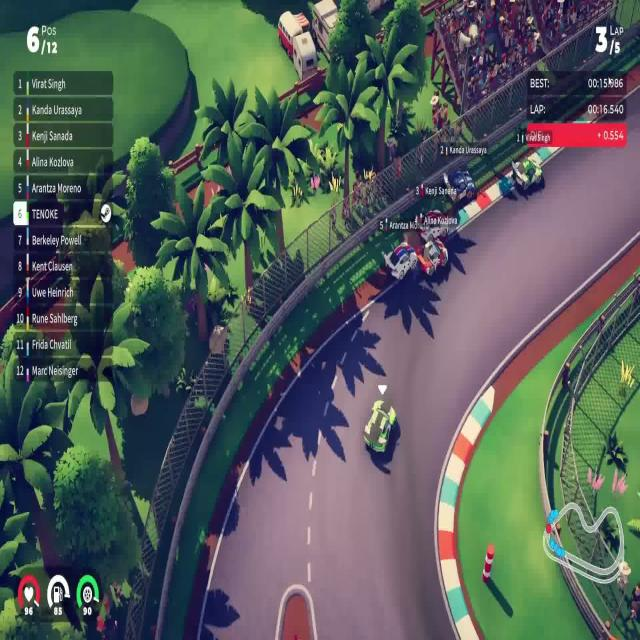car: (362, 398, 397, 455), (382, 242, 418, 282), (414, 236, 448, 278), (511, 154, 544, 192), (442, 168, 476, 204)
